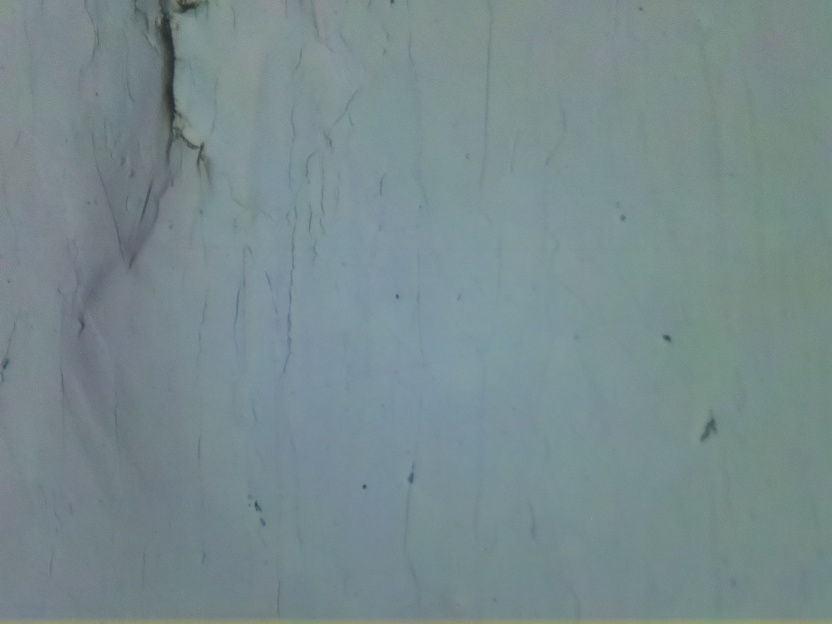crack: (154, 0, 211, 164)
